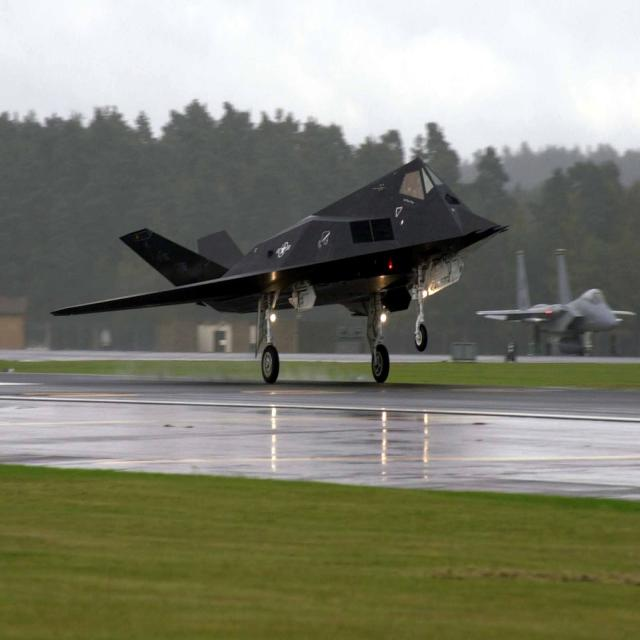MIL_Plane: (50, 156, 510, 383), (475, 248, 640, 356)
